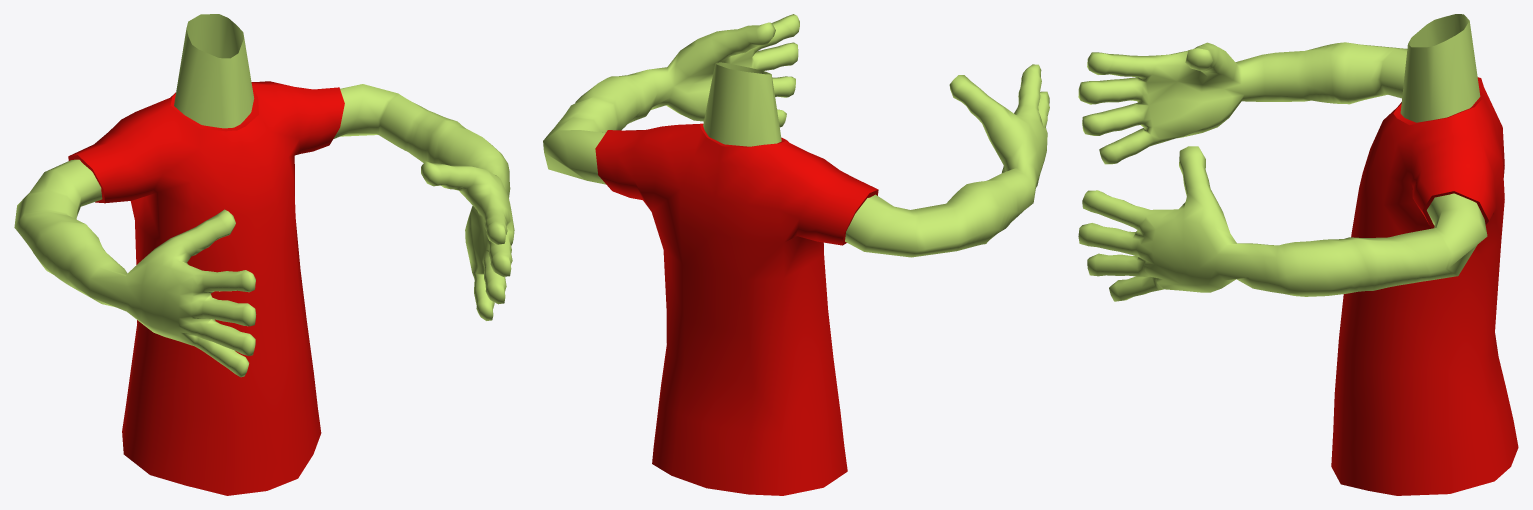
File: cemberselKolar.fbx
3 views of the same model, side by side, from view 1: azimuth 30°, elevation 25°; view 2: azimuth 150°, elevation 25°; view 3: azimuth 270°, elevation 25° (orthographic). The views are drawn at different scales.
Visible parts, largest first — view 1: TPMTshirtS; view 2: TPMTshirtS; view 3: TPMTshirtS.
Part boxes in pixels (x1=…): TPMTshirtS: x1=14, y1=14, x2=514, y2=495; TPMTshirtS: x1=543, y1=14, x2=1049, y2=495; TPMTshirtS: x1=1078, y1=14, x2=1518, y2=495.
Bounding box in the file's own units: 6969 × 6488 × 5801.
